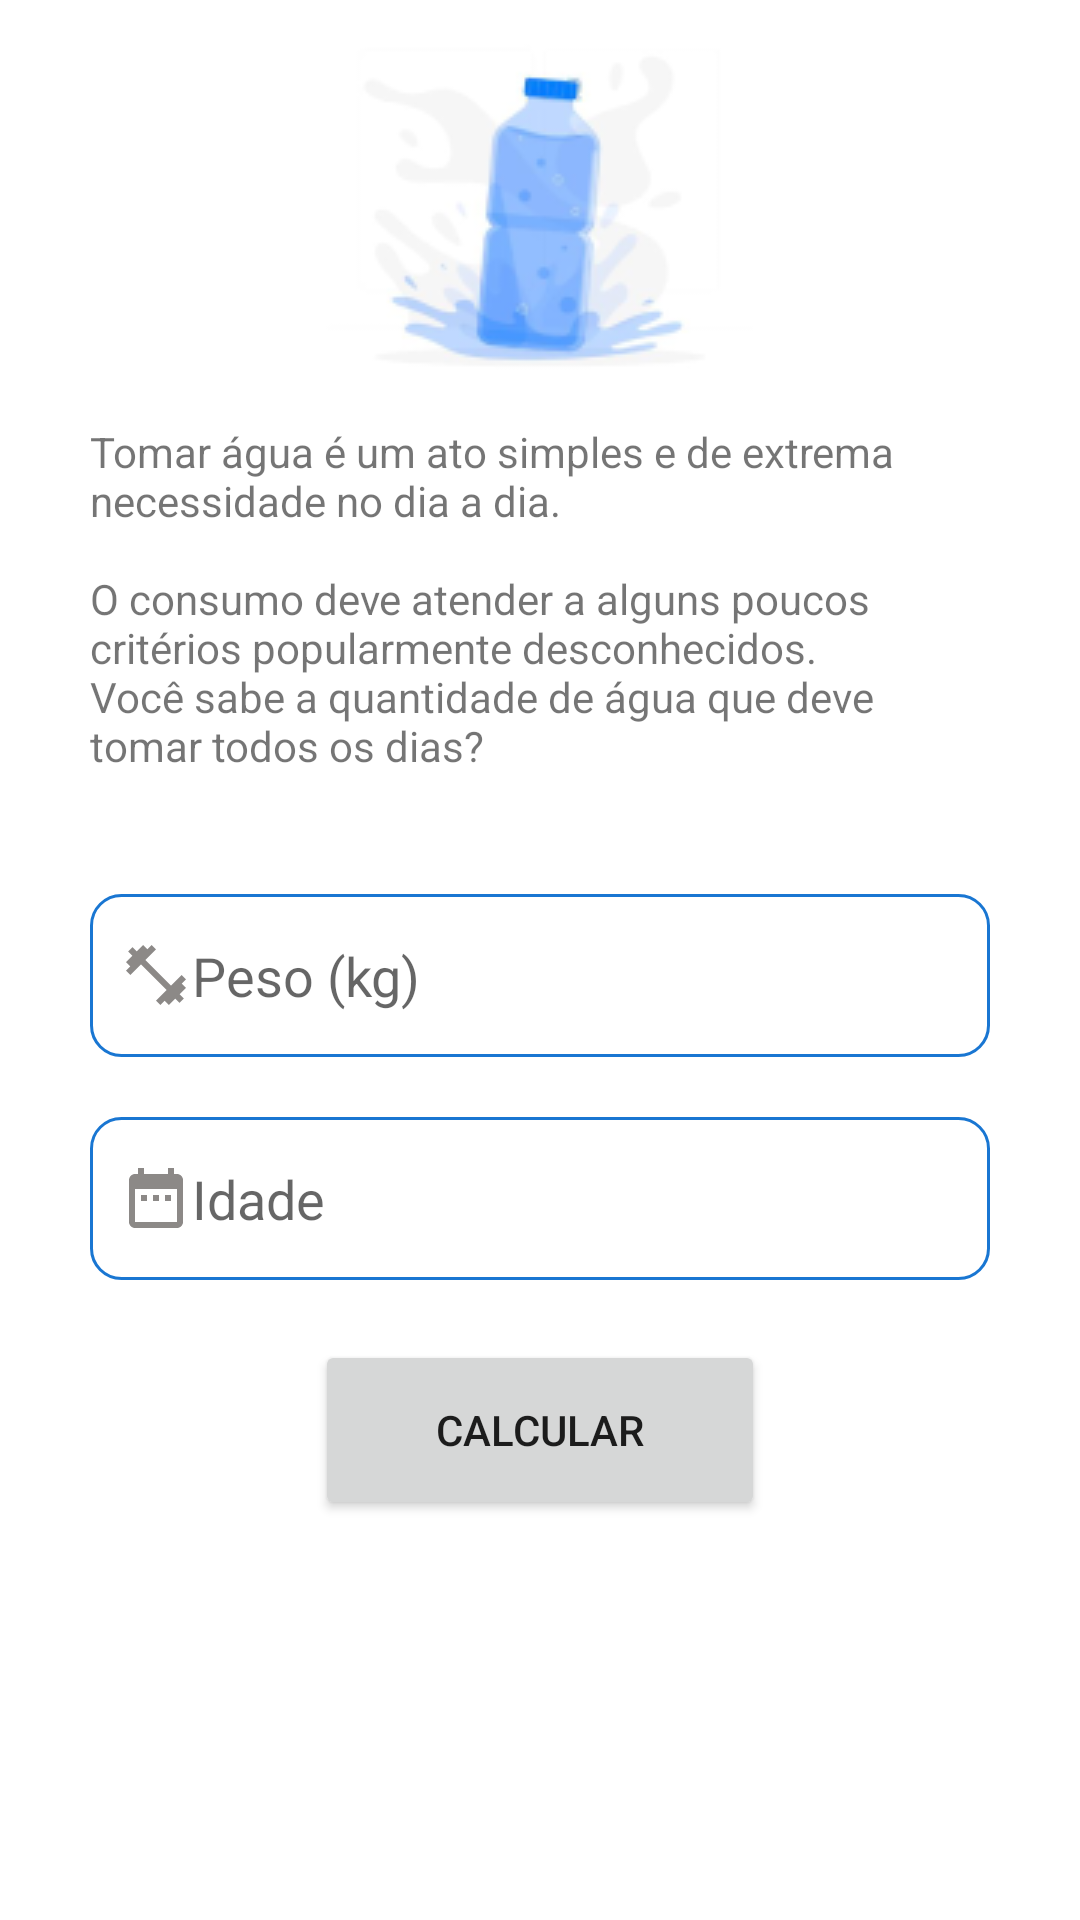

Icon click points for this 1080×1920 phone screenshot, format (x,y):
agua: (537,218)
